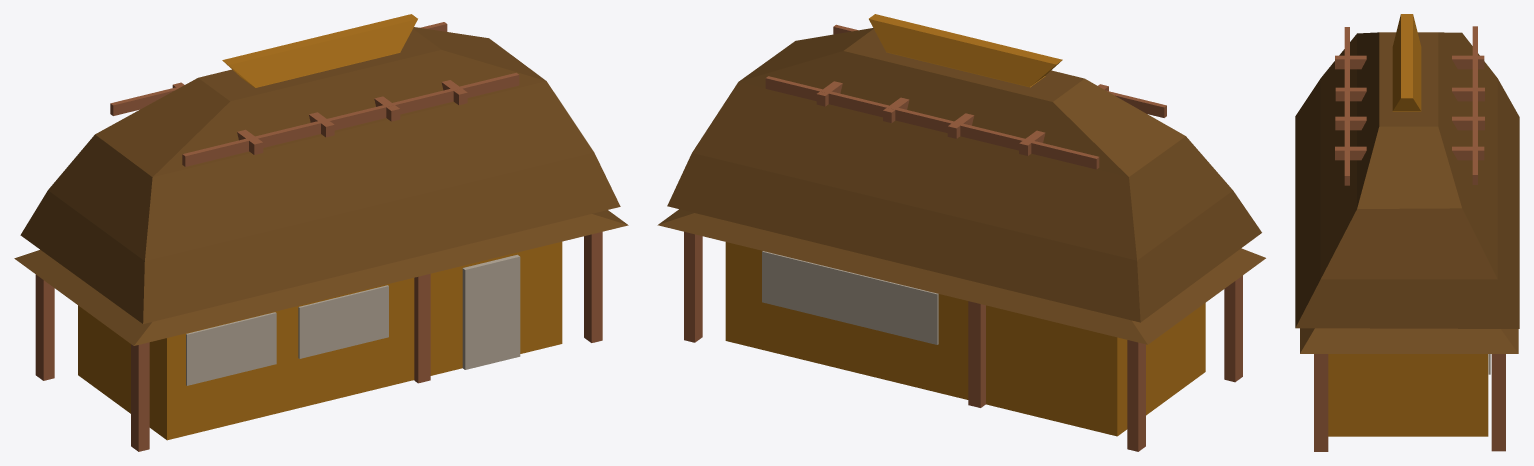
Rendered from casa2.fbx.
3 views of the same model, side by side, from view 1: azimuth 30°, elevation 25°; view 2: azimuth 150°, elevation 25°; view 3: azimuth 270°, elevation 25° (orthographic). The views are drawn at different scales.
Visible parts, largest first — view 1: Telhado1, Base, Telhado2, Porta, Janela.001, Janela, Pilar3, Pilar1.003, Pilar1, Pilar1.001, Pilar4, Pilar3.001; view 2: Telhado1, Base, Telhado2, Janela.002, Pilar3.001, Pilar1.001, Pilar1.002, Pilar1, Pilar4.001, Pilar3; view 3: Telhado1, Base, Telhado2, Pilar1.003, Pilar1.002, Pilar3, Pilar3.001, Pilar2.002, Pilar2.003, Pilar2.001, Pilar2.
Boxes of the visible parts, left/top/right/bottom form: Telhado1: left=20, top=27, right=620, bottom=323; Base: left=78, top=14, right=562, bottom=440; Telhado2: left=14, top=210, right=628, bottom=345; Porta: left=462, top=254, right=520, bottom=369; Janela.001: left=298, top=285, right=388, bottom=358; Janela: left=186, top=312, right=276, bottom=385; Pilar3: left=182, top=72, right=519, bottom=166; Pilar1.003: left=584, top=232, right=602, bottom=342; Pilar1: left=131, top=342, right=149, bottom=451; Pilar1.001: left=35, top=274, right=54, bottom=380; Pilar4: left=414, top=274, right=430, bottom=383; Pilar3.001: left=110, top=22, right=447, bottom=115; Telhado1: left=667, top=28, right=1261, bottom=322; Base: left=725, top=14, right=1205, bottom=436; Telhado2: left=657, top=209, right=1265, bottom=344; Janela.002: left=762, top=251, right=938, bottom=344; Pilar3.001: left=765, top=76, right=1099, bottom=169; Pilar1.001: left=1127, top=340, right=1145, bottom=451; Pilar1.002: left=684, top=231, right=702, bottom=342; Pilar1: left=1224, top=275, right=1242, bottom=382; Pilar4.001: left=968, top=301, right=985, bottom=407; Pilar3: left=833, top=24, right=1166, bottom=117; Telhado1: left=1295, top=32, right=1519, bottom=328; Base: left=1328, top=14, right=1488, bottom=436; Telhado2: left=1300, top=328, right=1518, bottom=353; Pilar1.003: left=1314, top=354, right=1328, bottom=451; Pilar1.002: left=1491, top=354, right=1505, bottom=451; Pilar3: left=1344, top=27, right=1349, bottom=185; Pilar3.001: left=1472, top=26, right=1477, bottom=184; Pilar2.002: left=1335, top=87, right=1484, bottom=101; Pilar2.003: left=1335, top=55, right=1484, bottom=69; Pilar2.001: left=1335, top=116, right=1484, bottom=130; Pilar2: left=1335, top=146, right=1484, bottom=160.
Bounding box in the file's own units: 2025 × 1252 × 870.
